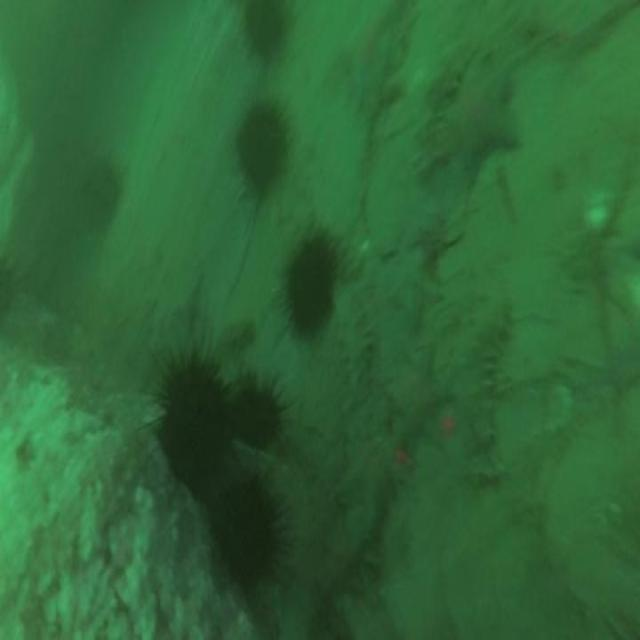echinus: (159, 355, 232, 490), (210, 474, 276, 577), (235, 101, 286, 191), (289, 229, 332, 329), (233, 384, 278, 447), (80, 164, 119, 231), (241, 0, 285, 58)
holothurian: (462, 292, 513, 448), (337, 276, 376, 396)
starfish: (446, 63, 516, 174), (337, 435, 405, 531), (386, 344, 446, 442), (388, 242, 438, 319)
